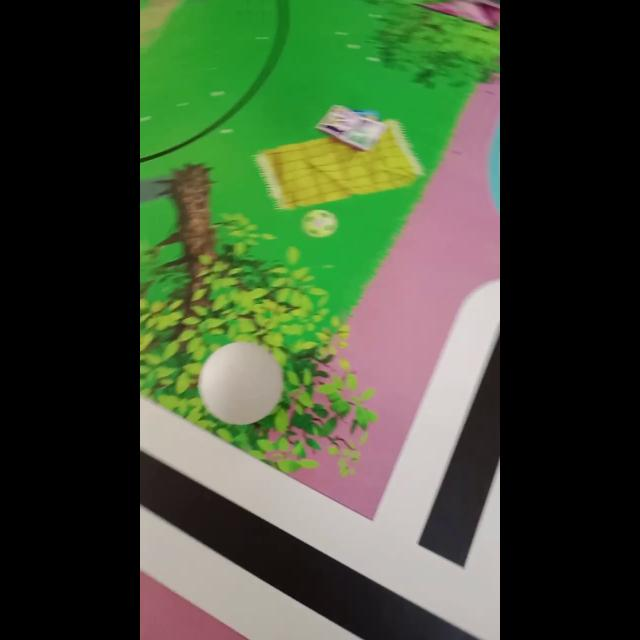white ball: (196, 340, 284, 426)
